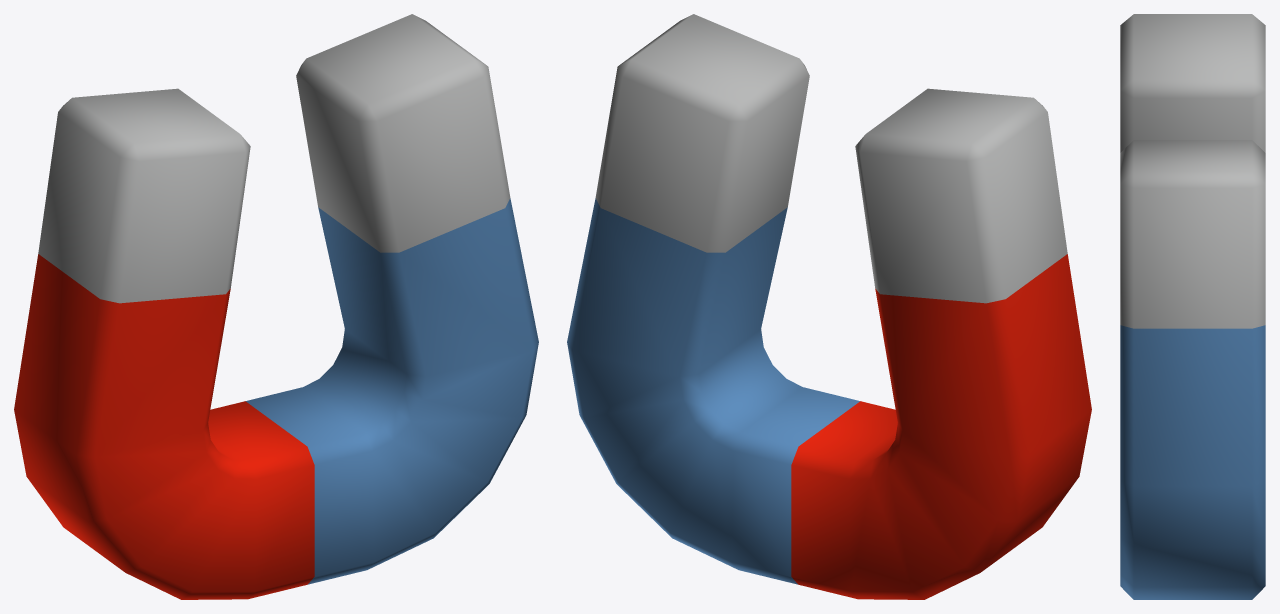
The model's file is magnet.fbx.
The picture shows the model from 3 angles, left to right: view 1: azimuth 30°, elevation 25°; view 2: azimuth 150°, elevation 25°; view 3: azimuth 270°, elevation 25°; orthographic projection. The views are drawn at different scales.
Parts seen in each view (by area): view 1: magnet; view 2: magnet; view 3: magnet.
Boxes of the visible parts, x1,y1,x2,y2 form: magnet: (14,14,538,599); magnet: (567,14,1091,599); magnet: (1120,14,1265,599).
Size of the model in its own units: 86.8 by 86.84 by 24.76.
